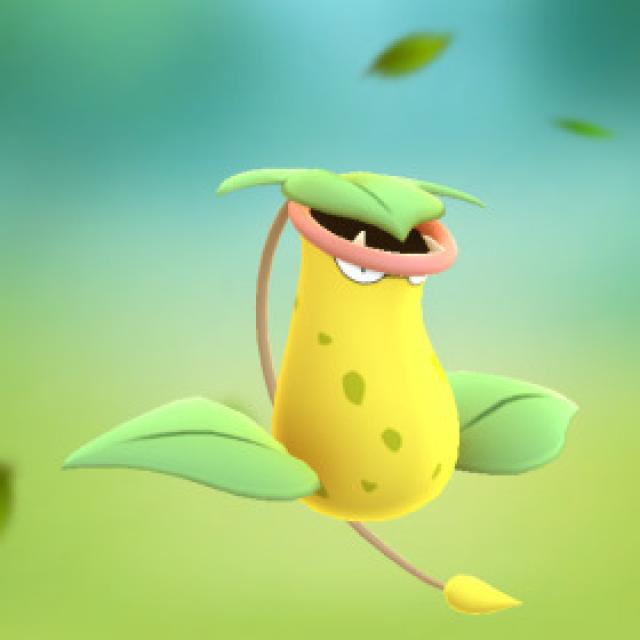Victreebel: (234, 171, 463, 531)
